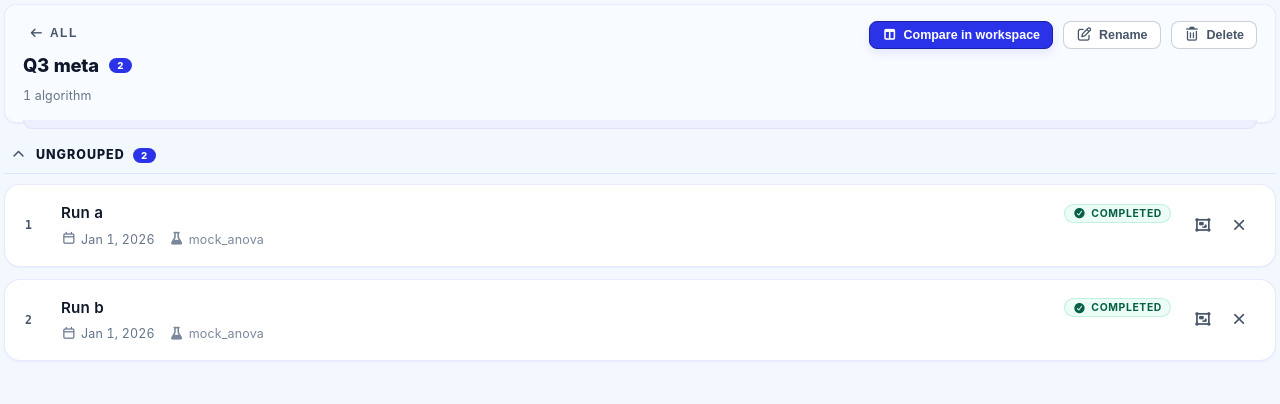
Test: ExperimentFolderComponent › keeps the row and says so when removing the run did not reach the server
What coordinates should you click on to do the following:
click the button with class "icon-btn" in the row of "Run a"
I would click on:
 (1239, 226)
Its box is [1223,210,1255,242].
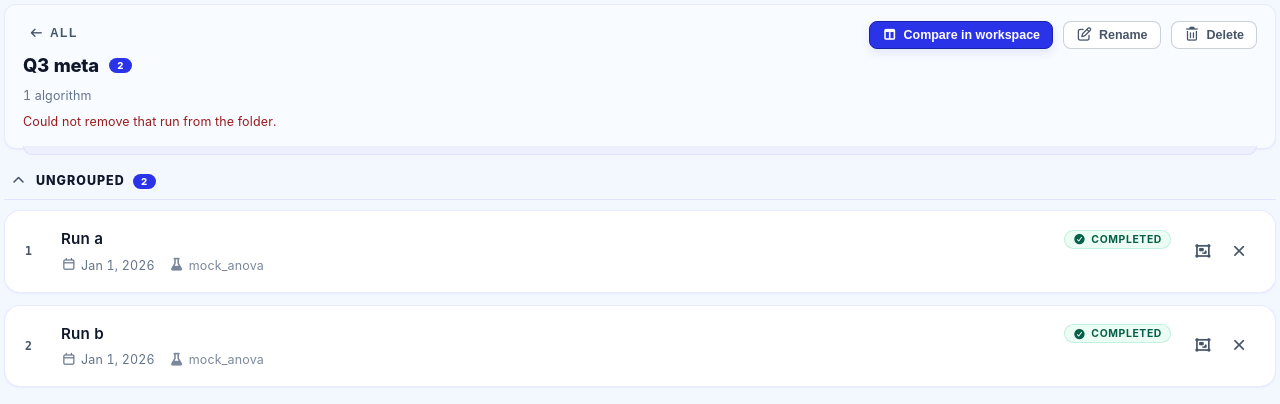
Expected: the message with class "folder-form-error" shows "Could not remove that run", [23,114,276,129]
